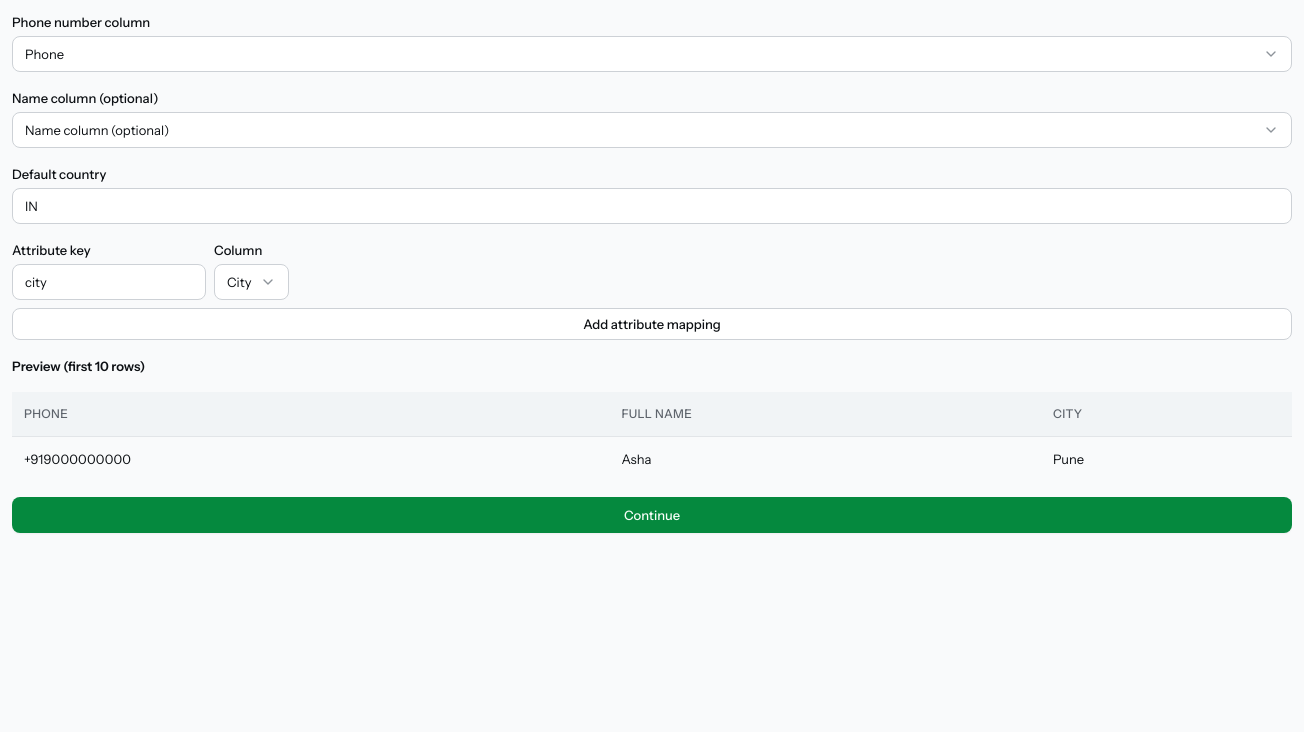
Test: ImportWizard mapping step selects › the name column select is optional and shows the placeholder until an option is chosen
The width and height of the screenshot is (1304, 732).
Expected: the 1st text "Name column (optional)" is shown, [12,90,158,106]
Step 1. Click the dropdown labelled "Name column (optional)" → [97, 130], box [12,112,1292,148]
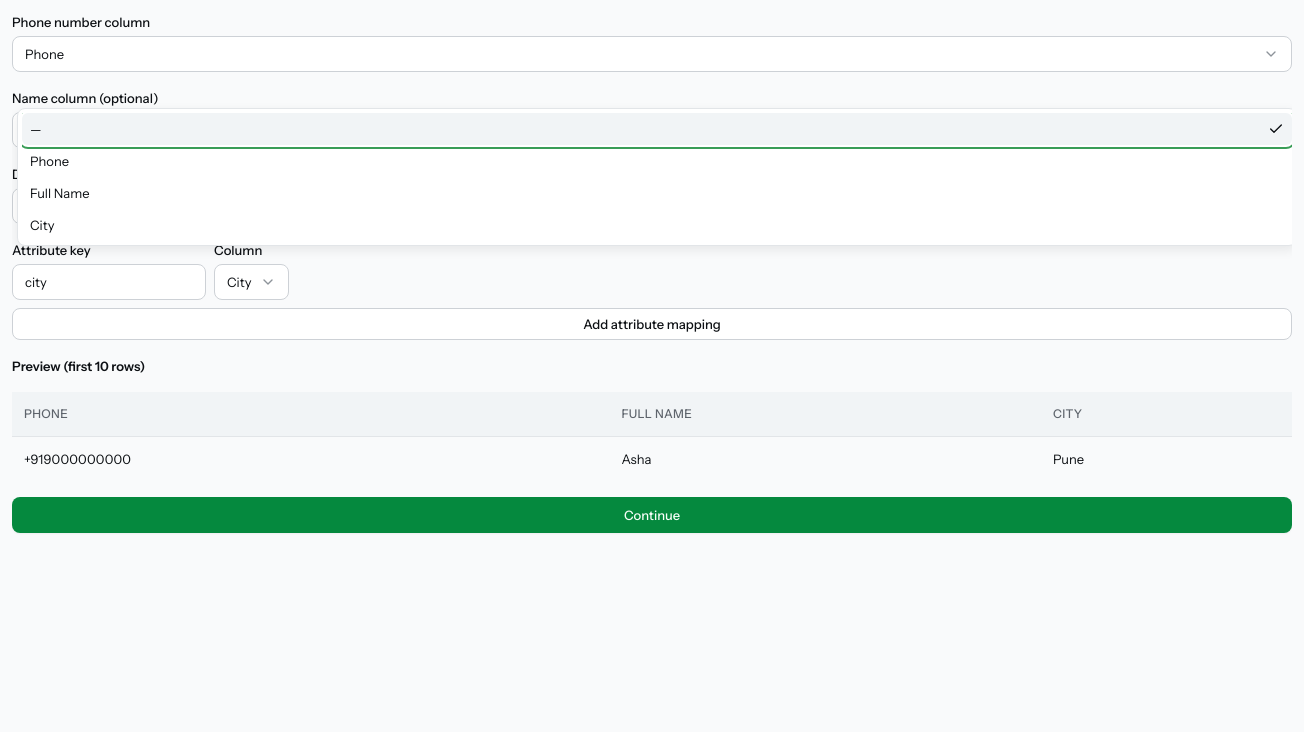
Step 2. Click the option "City" → [42, 225], box [30,217,54,233]
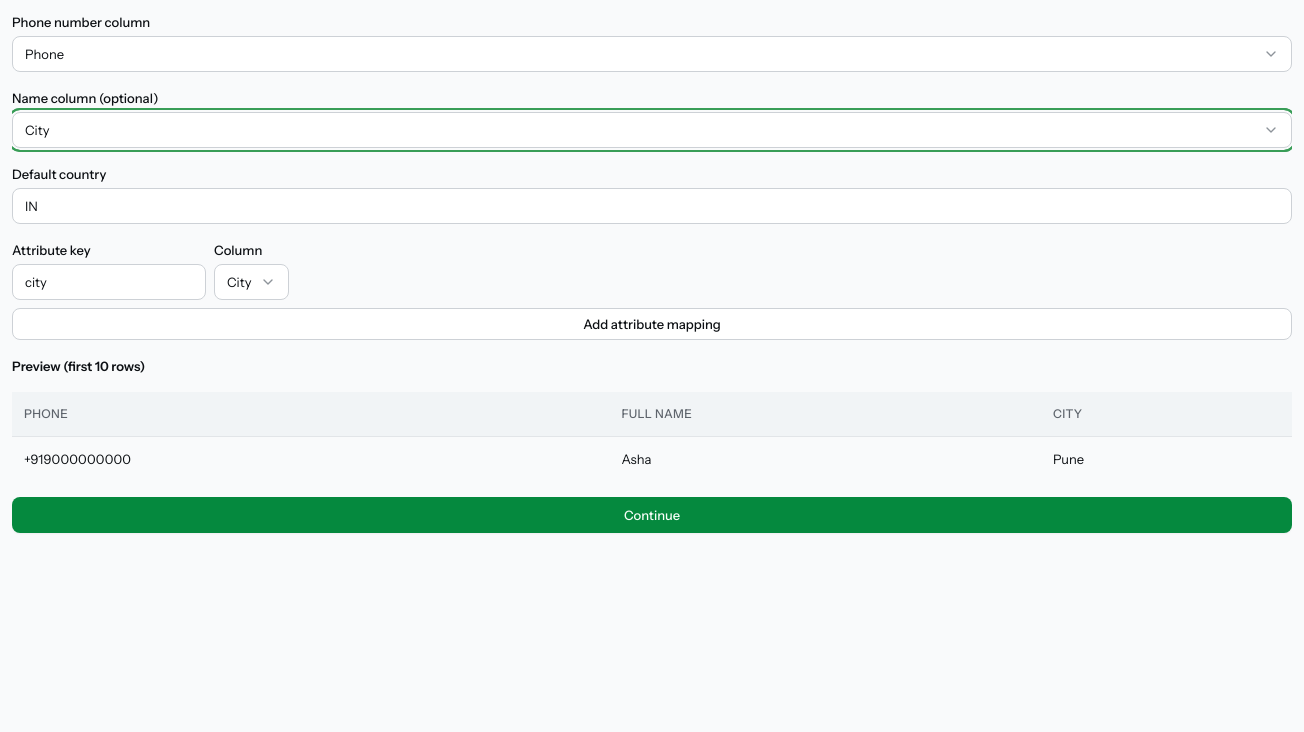
Expected: the text "City" below "Name column (optional)" is shown, [25,122,50,138]
